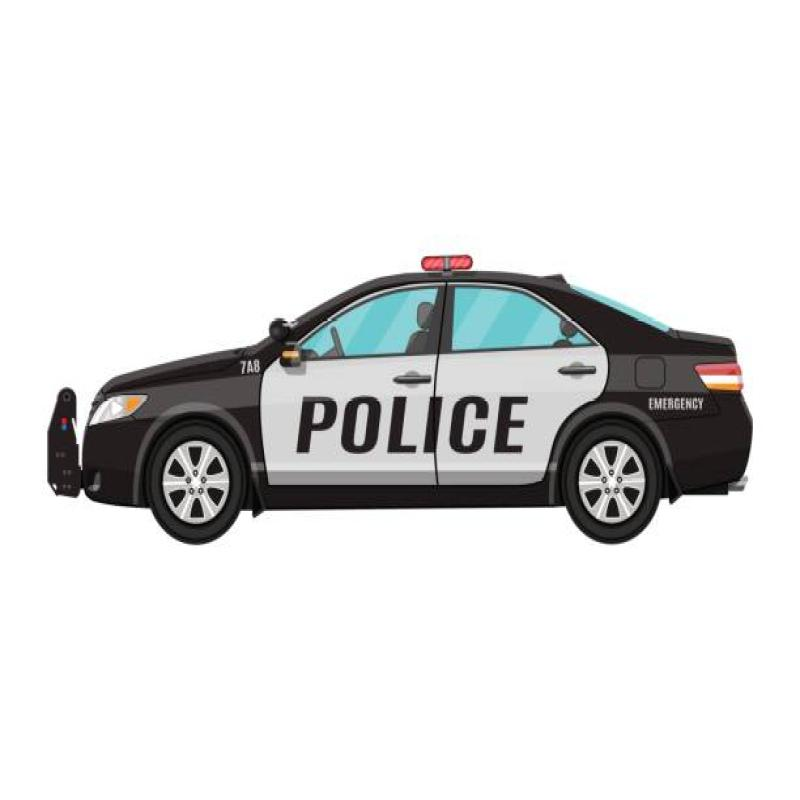AmbulanceSiren: (414, 248, 491, 290)
